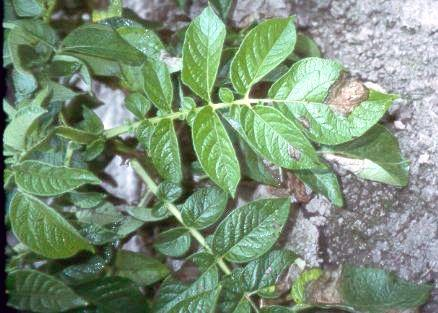Potato leaf: (268, 58, 398, 151), (288, 256, 435, 313)
